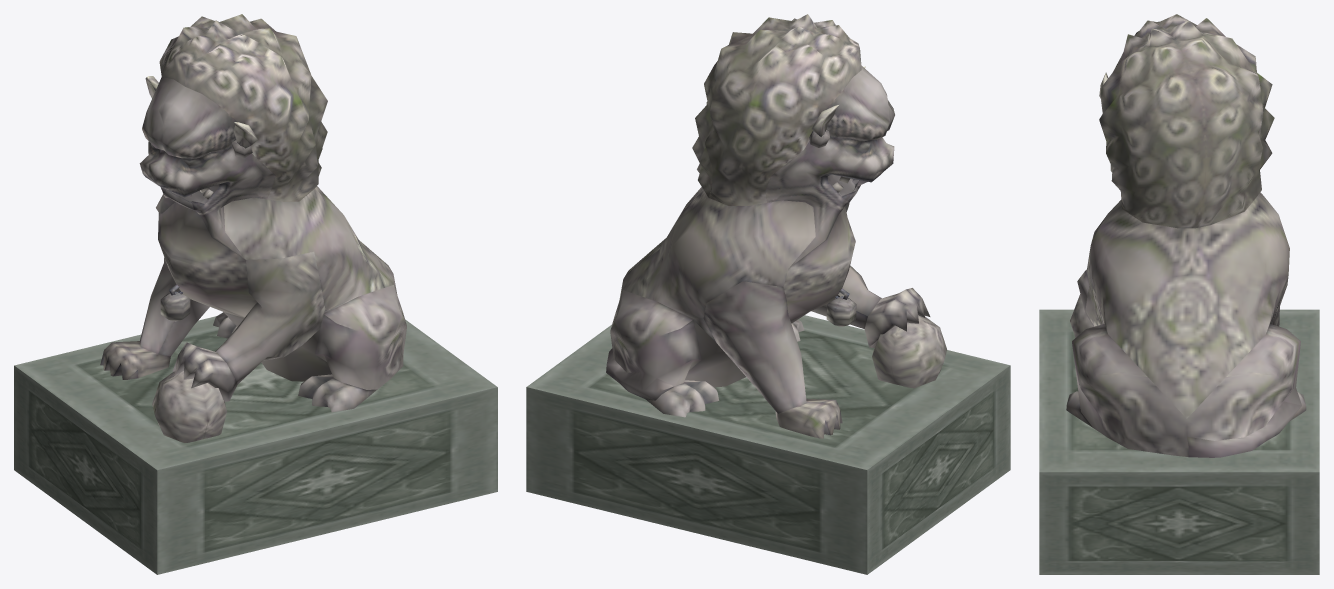
File: szc_building_diaoxiang.FBX
3 renders of one model, left to right at view 1: azimuth 30°, elevation 25°; view 2: azimuth 150°, elevation 25°; view 3: azimuth 270°, elevation 25°, orthographic. The views are drawn at different scales.
Parts seen in each view (by area): view 1: szc_building_diaoxiang001; view 2: szc_building_diaoxiang001; view 3: szc_building_diaoxiang001.
Part boxes in pixels (left/top/right/bottom): szc_building_diaoxiang001: left=14, top=14, right=497, bottom=574; szc_building_diaoxiang001: left=526, top=14, right=1010, bottom=574; szc_building_diaoxiang001: left=1039, top=14, right=1319, bottom=574.
Bounding box in the file's own units: 184 × 240 × 134.
